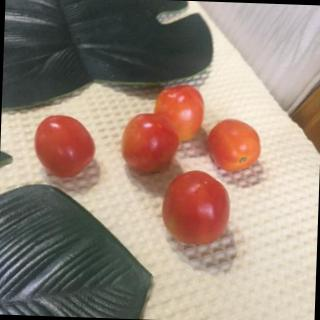Tomat: (155, 161, 237, 251), (32, 109, 104, 180), (204, 108, 268, 184), (121, 110, 182, 180), (153, 87, 214, 149)
